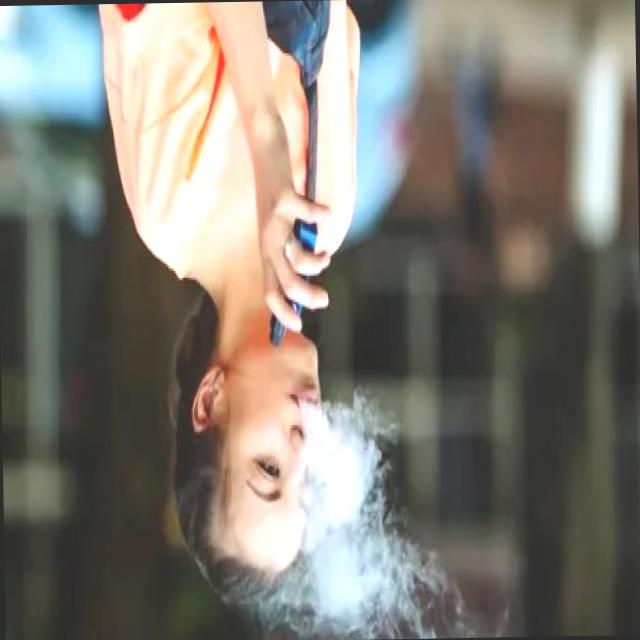smoke: (265, 214, 322, 352)
